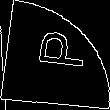P_W: (25, 33, 85, 77)
